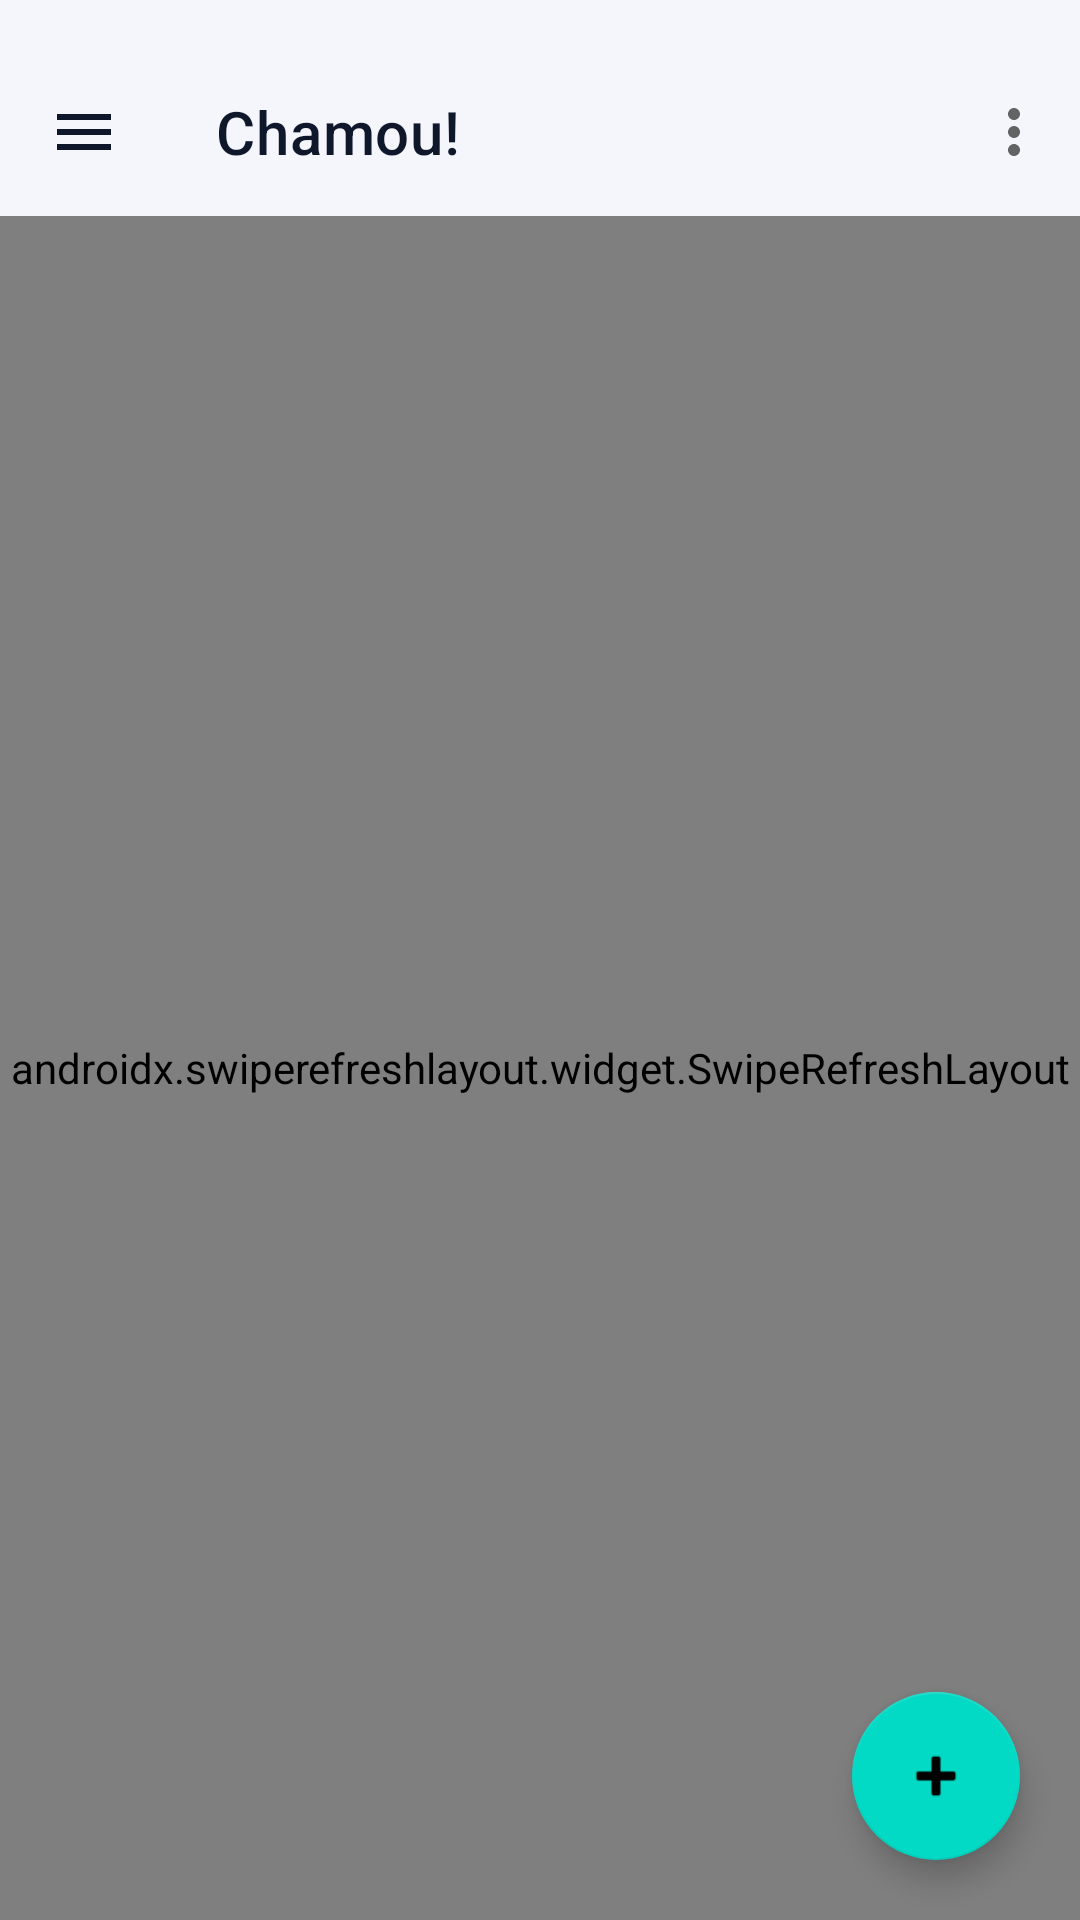

Where to tap for icons on this 1080 x 1920 app screen, as [x,y]:
Novo: [936,1776]
